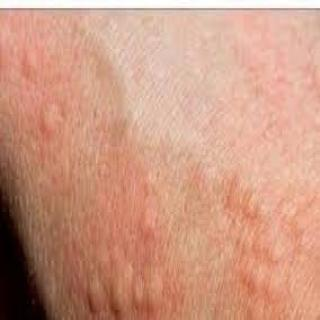urticaria: (233, 186, 300, 319), (247, 37, 309, 158), (14, 48, 79, 143), (67, 261, 175, 318), (133, 176, 170, 244)
